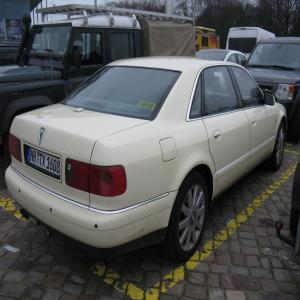Vehicle-registration-plate: (28, 146, 61, 179)
